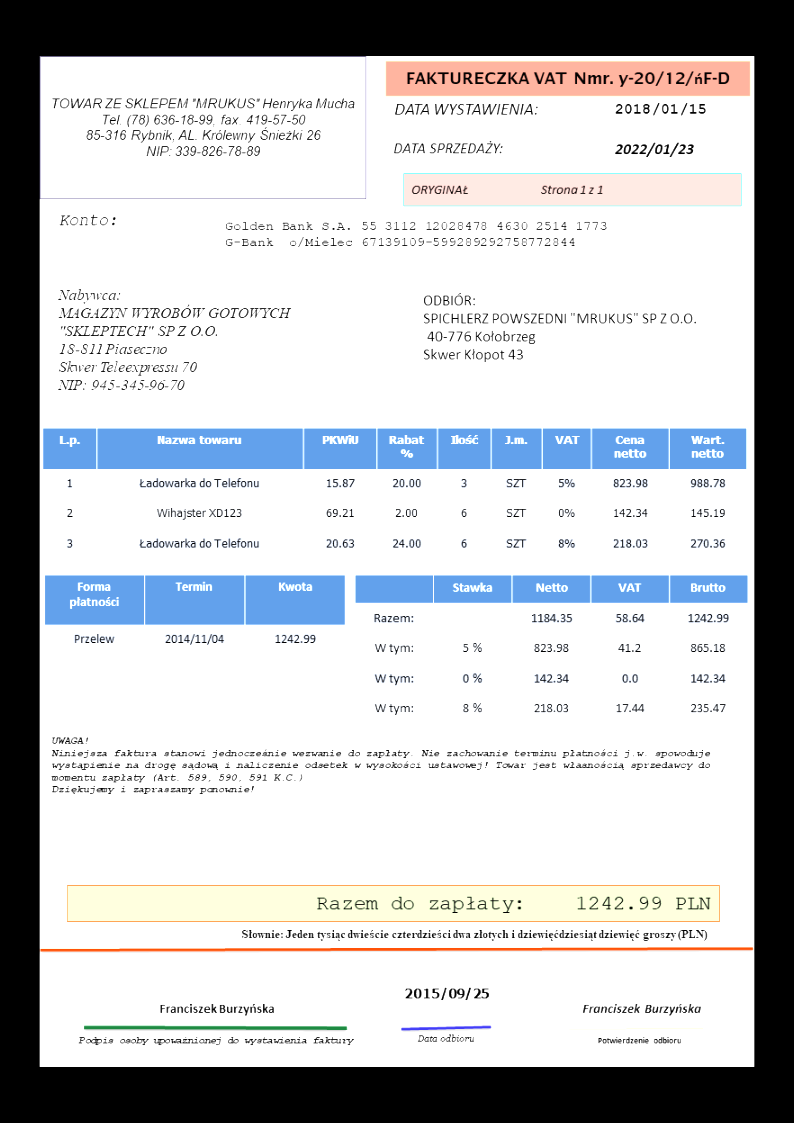Table: (42, 427, 747, 563), (354, 574, 750, 727), (43, 573, 345, 663)
TextBox: (49, 734, 713, 796), (56, 287, 293, 393), (49, 93, 357, 160), (421, 290, 697, 363), (224, 218, 609, 251), (314, 892, 711, 916), (240, 926, 708, 942), (402, 67, 730, 89), (77, 1034, 355, 1048), (409, 181, 605, 198), (392, 99, 540, 117), (391, 139, 505, 156), (580, 1002, 702, 1017), (157, 1001, 276, 1016), (613, 101, 707, 118), (402, 985, 491, 1001), (612, 142, 698, 157), (57, 211, 117, 229), (595, 1034, 683, 1046), (415, 1032, 476, 1045)
